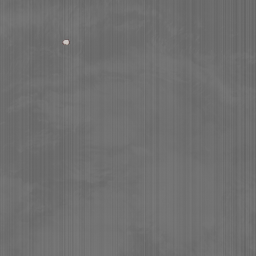Target: (62, 38, 71, 46)
